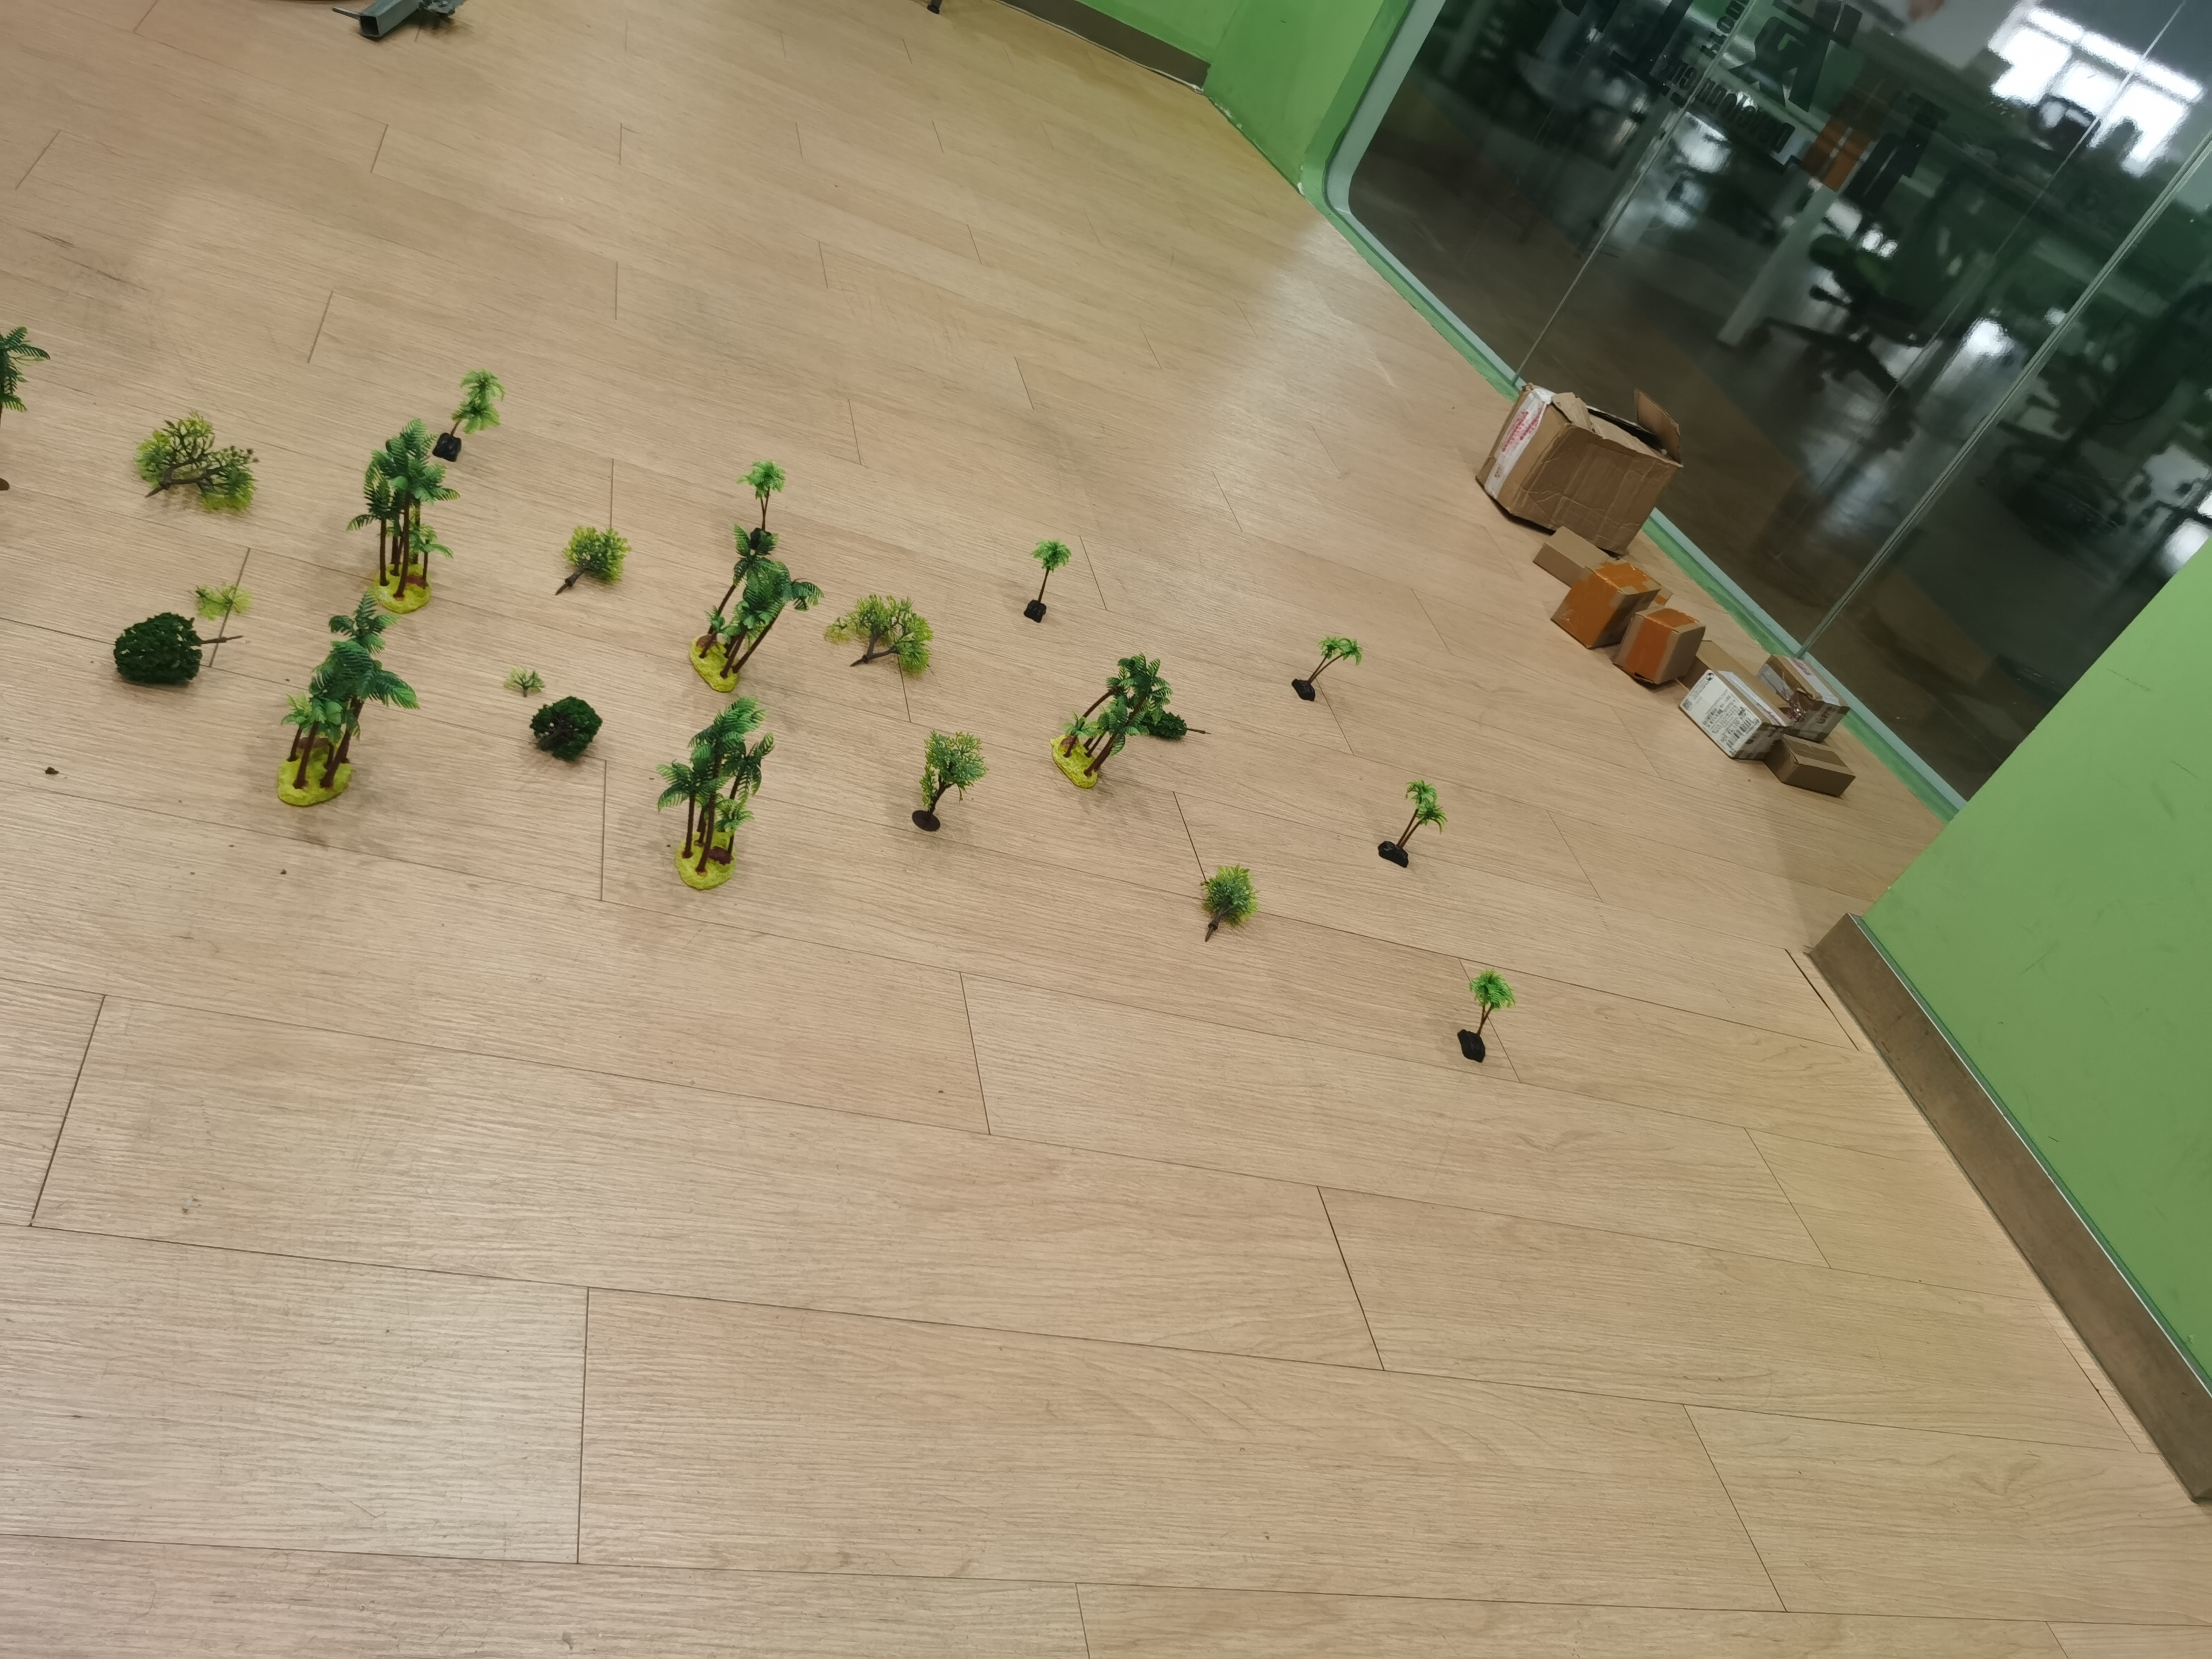corn: (643, 701, 791, 890), (343, 432, 495, 612), (270, 603, 401, 805), (1040, 647, 1179, 796), (676, 547, 822, 688), (1435, 965, 1541, 1073), (1277, 622, 1381, 709), (1369, 775, 1453, 877), (425, 371, 502, 465), (1010, 530, 1080, 620), (732, 471, 796, 549)
